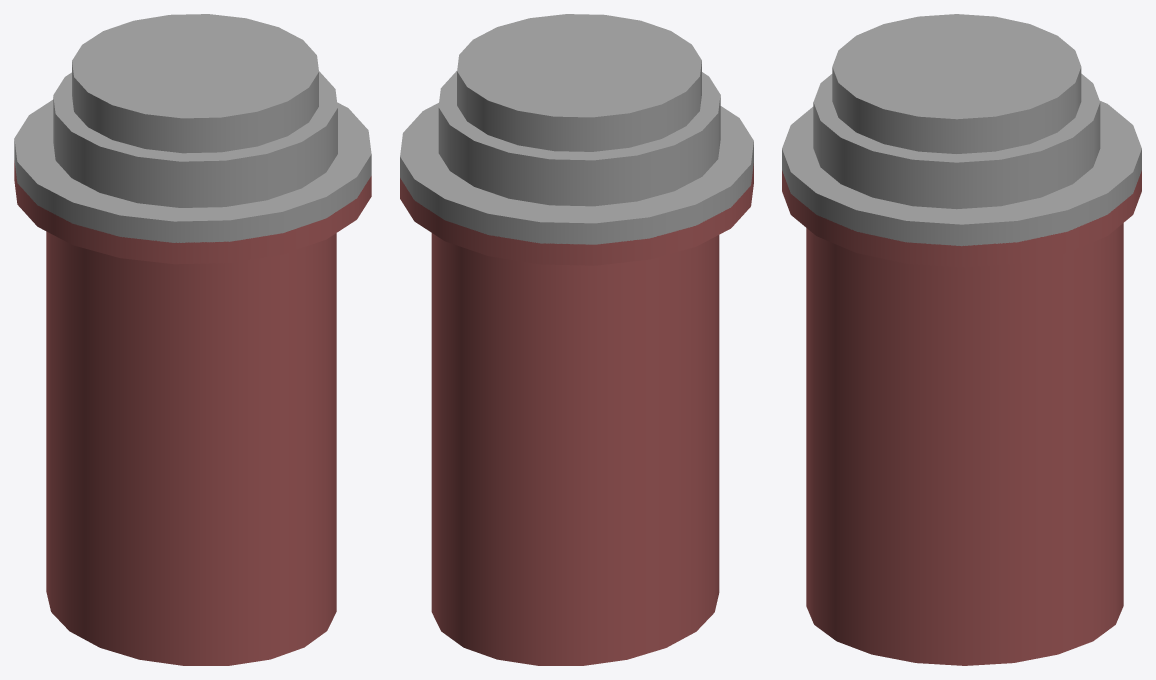
File: pill_bottle.fbx
The picture shows the model from 3 angles, left to right: view 1: azimuth 30°, elevation 25°; view 2: azimuth 150°, elevation 25°; view 3: azimuth 270°, elevation 25°; orthographic projection.
Parts seen in each view (by area): view 1: pCylinder7; view 2: pCylinder7; view 3: pCylinder7.
Boxes of the visible parts, x1,y1,x2,y2 form: pCylinder7: (14, 14, 371, 665); pCylinder7: (400, 14, 753, 665); pCylinder7: (782, 14, 1141, 665).
Bounding box in the file's own units: 7.64 × 12.63 × 7.64.
